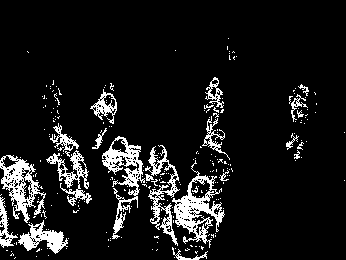person: (1, 154, 68, 254), (139, 144, 182, 256), (99, 136, 144, 240), (173, 176, 224, 260), (47, 131, 93, 211), (190, 127, 237, 185), (87, 81, 118, 150), (285, 81, 311, 161), (203, 75, 224, 138)
